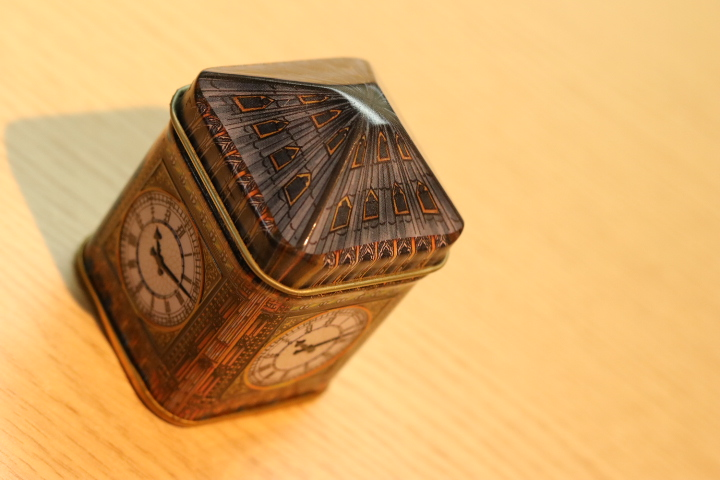Big Ben: (47, 35, 473, 445)
